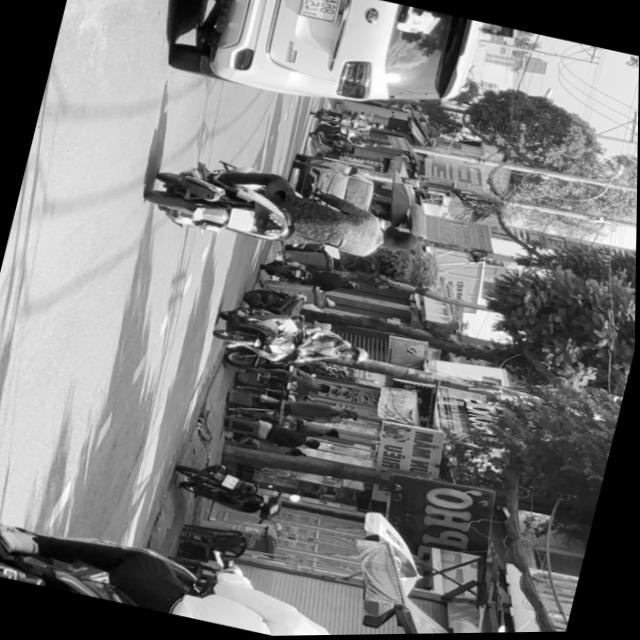licenseplate: (0, 492, 444, 640), (140, 144, 429, 284)
motorcyclist: (379, 226, 419, 257)
nohelmet: (227, 208, 255, 233)
